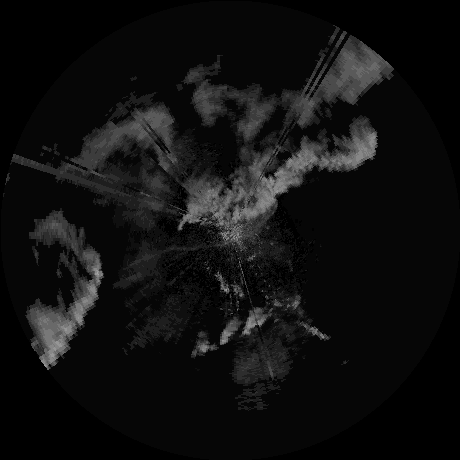frontgust: (166, 207, 277, 255)
